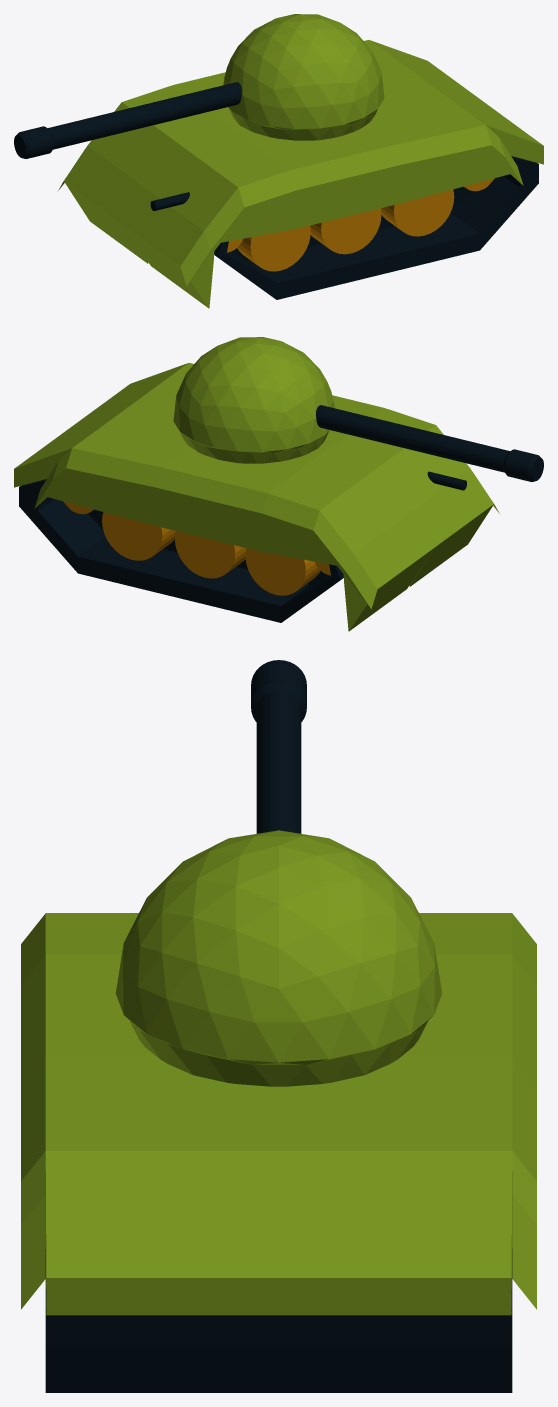
File: tank.fbx
3 views of the same model, one above another, from view 1: azimuth 30°, elevation 25°; view 2: azimuth 150°, elevation 25°; view 3: azimuth 270°, elevation 25° (orthographic). The views are drawn at different scales.
Parts seen in each view (by area): view 1: Cube.001, Icosphere, Cube, Cylinder.005, Cylinder, Cylinder.002, Cylinder.001, Cylinder.006; view 2: Cube.001, Icosphere, Cube, Cylinder.005, Cylinder, Cylinder.002, Cylinder.001, Cylinder.006; view 3: Cube.001, Icosphere, Cube, Cylinder.005.
Boxes of the visible parts, x1,y1,x2,y2 form: Cube.001: [58, 40, 543, 308]; Icosphere: [223, 14, 384, 140]; Cube: [214, 156, 538, 299]; Cylinder.005: [14, 82, 241, 158]; Cylinder: [237, 225, 310, 271]; Cylinder.002: [381, 189, 454, 236]; Cylinder.001: [310, 208, 381, 254]; Cylinder.006: [150, 192, 189, 210]; Cube.001: [14, 363, 499, 631]; Icosphere: [173, 337, 334, 463]; Cube: [19, 479, 343, 622]; Cylinder.005: [316, 405, 543, 481]; Cylinder: [245, 548, 320, 595]; Cylinder.002: [102, 512, 175, 560]; Cylinder.001: [174, 531, 246, 578]; Cylinder.006: [427, 471, 466, 490]; Cube.001: [21, 913, 536, 1315]; Icosphere: [115, 830, 442, 1086]; Cube: [45, 1249, 512, 1392]; Cylinder.005: [251, 660, 306, 833].
Size of the model in its own units: 1384 by 613 by 664.
